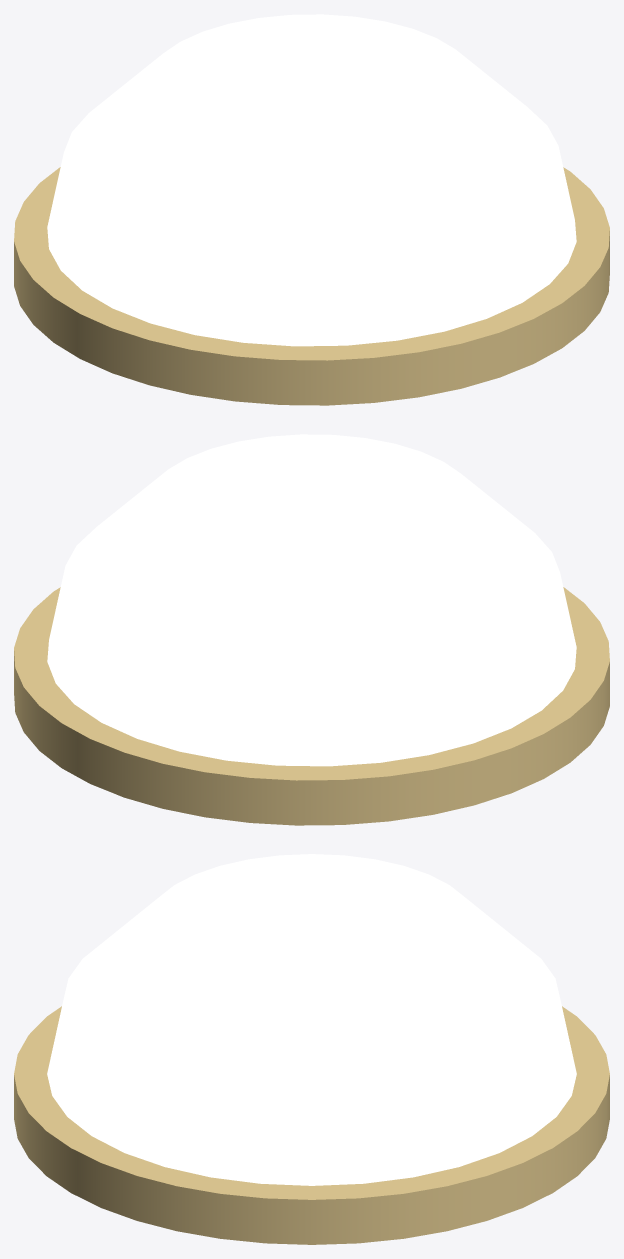
File: flush_light.glb
3 views of the same model, one above another, from view 1: azimuth 30°, elevation 25°; view 2: azimuth 150°, elevation 25°; view 3: azimuth 270°, elevation 25° (orthographic).
Visible parts, largest first — view 1: dome, ring; view 2: dome, ring; view 3: dome, ring.
Boxes of the visible parts, x1,y1,x2,y2 form: dome: (47, 14, 576, 346); ring: (14, 167, 609, 405); dome: (47, 434, 576, 766); ring: (14, 587, 609, 825); dome: (47, 854, 576, 1185); ring: (14, 1006, 609, 1244).
Size of the model in its own units: 0.36 by 0.15 by 0.36.
